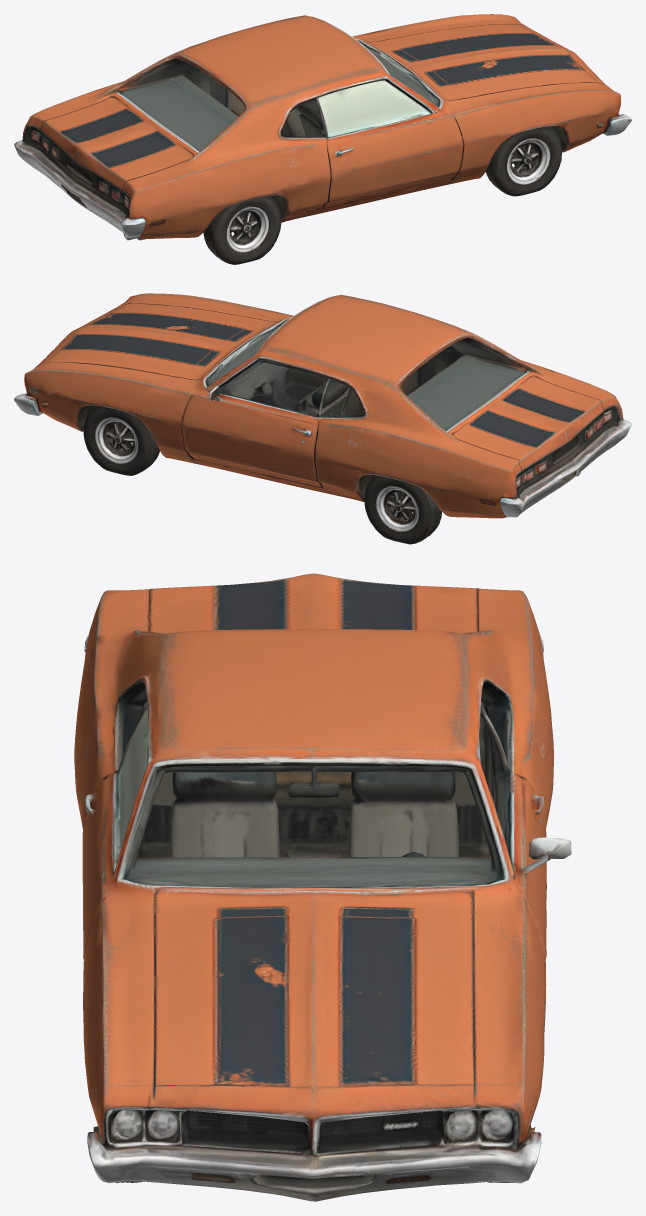
File: car_classic.glb
The picture shows the model from 3 angles, top to bottom: view 1: azimuth 30°, elevation 25°; view 2: azimuth 150°, elevation 25°; view 3: azimuth 270°, elevation 25°; orthographic projection. The views are drawn at different scales.
Visible parts, largest first — view 1: tripo_node_0b563a54-feff-4678-9929-72ef87c67003; view 2: tripo_node_0b563a54-feff-4678-9929-72ef87c67003; view 3: tripo_node_0b563a54-feff-4678-9929-72ef87c67003.
Part boxes in pixels (bbox=[...]): tripo_node_0b563a54-feff-4678-9929-72ef87c67003: bbox=[14, 14, 631, 264]; tripo_node_0b563a54-feff-4678-9929-72ef87c67003: bbox=[14, 293, 631, 544]; tripo_node_0b563a54-feff-4678-9929-72ef87c67003: bbox=[74, 573, 571, 1201].
Size of the model in its own units: 0.9807 by 0.2774 by 0.4081.
Materials: 1 (1 with a texture image).
